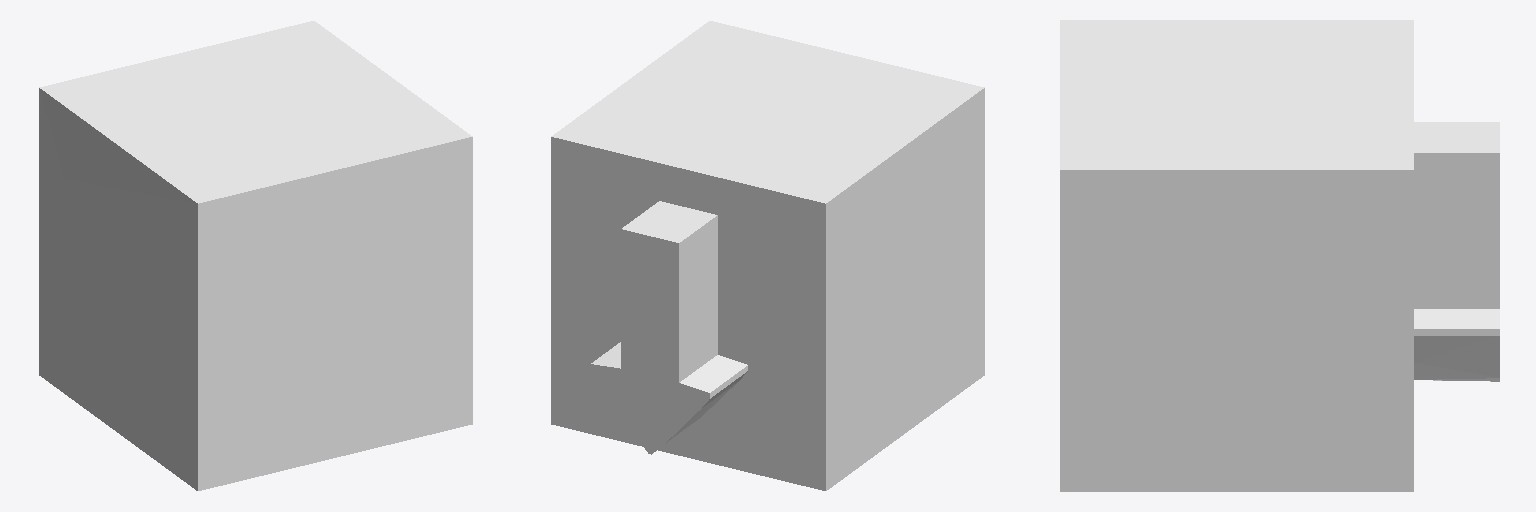
URDF robot description (Arrow_cube_cap_preprocessed_convex):
<?xml version="1.0" ?>
<robot name="Arrow_cube_cap_preprocessed_convex">
  <link name="baseLink">
    <contact>
    	<friction_anchor/>
    	   <lateral_friction value="1.0"/>
    </contact>
    <inertial>
      <origin rpy="0 0 0" xyz="0 0 0"/>
       <!-- mass controls penetration -->
       <mass value=".5"/>
       <inertia ixx="1e-4" ixy="0" ixz="0" iyy="1e-4" iyz="0" izz="1e-4"/>
    </inertial>
    <visual>
      <origin rpy="0 0 0" xyz="0 0 0"/>
      <geometry>
        <mesh filename="Arrow_cube_cap_preprocessed_convex.obj"/>
      </geometry>
       <material name="white">
        <color rgba="1 1 1 1"/>
      </material>
    </visual>
    <collision>
      <origin rpy="0 0 0" xyz="0 0 0"/>
      <geometry>
        <mesh filename="Arrow_cube_cap_preprocessed_convex.obj"/>
      </geometry>
    </collision>
  </link>
</robot>

--- Facts derived from the render (not from the file) ---
Views: 3 orthographic renders of the robot side by side, from view 1: azimuth 30°, elevation 25°; view 2: azimuth 150°, elevation 25°; view 3: azimuth 270°, elevation 25°.
Model Arrow_cube_cap_preprocessed_convex with 1 links and 0 joints (none), rooted at baseLink, posed all joints at 0.
Links seen in each view (by area): view 1: baseLink; view 2: baseLink; view 3: baseLink.
Boxes of the visible links, box(x1,y1,x2,y2) form: baseLink: box(39, 21, 472, 490); baseLink: box(551, 21, 984, 490); baseLink: box(1060, 20, 1499, 491).
Bounding box of the posed robot: 0.0811 × 0.1008 × 0.0811 m (x, y, z).
Meshes: 1 distinct files referenced, 1 mesh visuals loaded (1 OBJ).